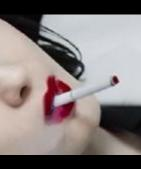Cigarette: (52, 75, 119, 107)
